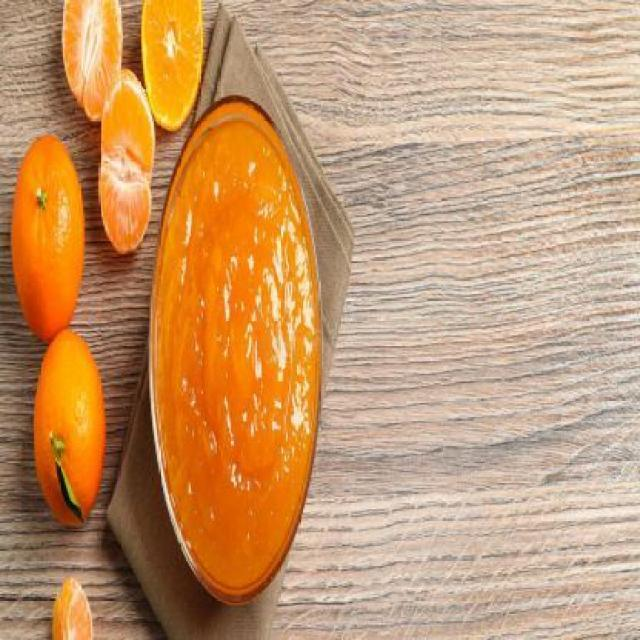Jeruk Sudah Matang: (9, 136, 91, 336), (33, 326, 107, 526)
